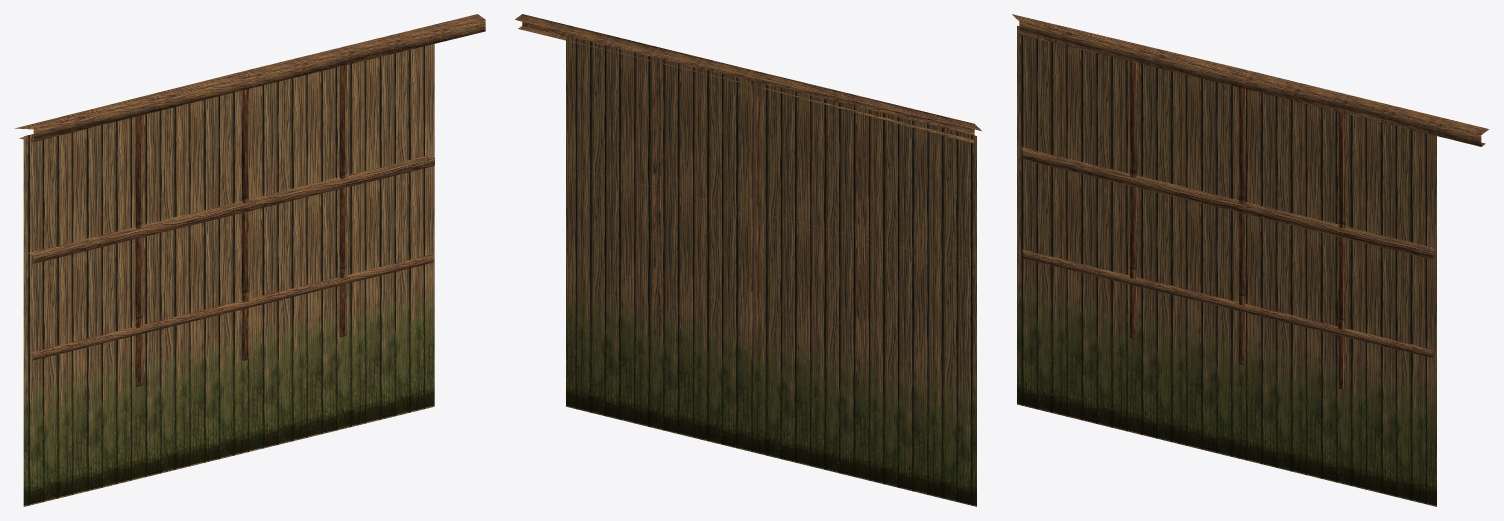
File: LAKETOWN_WAREHOUSE2_PS_WH2_PLATROOM88447__GX.fbx
3 views of the same model, side by side, from view 1: azimuth 30°, elevation 25°; view 2: azimuth 150°, elevation 25°; view 3: azimuth 330°, elevation 25° (orthographic). The views are drawn at different scales.
Parts seen in each view (by area): view 1: LAKETOWN_WAREHOUSE2_PS_WH2_PLATROOM88447__GX; view 2: LAKETOWN_WAREHOUSE2_PS_WH2_PLATROOM88447__GX; view 3: LAKETOWN_WAREHOUSE2_PS_WH2_PLATROOM88447__GX.
Boxes of the visible parts, left/top/right/bottom form: LAKETOWN_WAREHOUSE2_PS_WH2_PLATROOM88447__GX: left=14, top=14, right=485, bottom=506; LAKETOWN_WAREHOUSE2_PS_WH2_PLATROOM88447__GX: left=515, top=14, right=981, bottom=506; LAKETOWN_WAREHOUSE2_PS_WH2_PLATROOM88447__GX: left=1012, top=14, right=1489, bottom=506.
Bounding box in the file's own units: 197027 × 153127 × 5804.
Materials: 5 (5 with a texture image).
